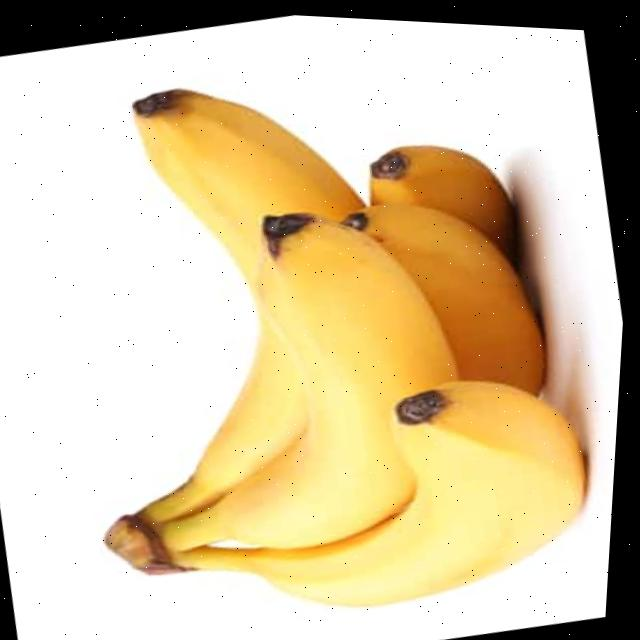Banana: (156, 213, 460, 552), (179, 377, 588, 601), (136, 86, 365, 278), (367, 199, 549, 386)
